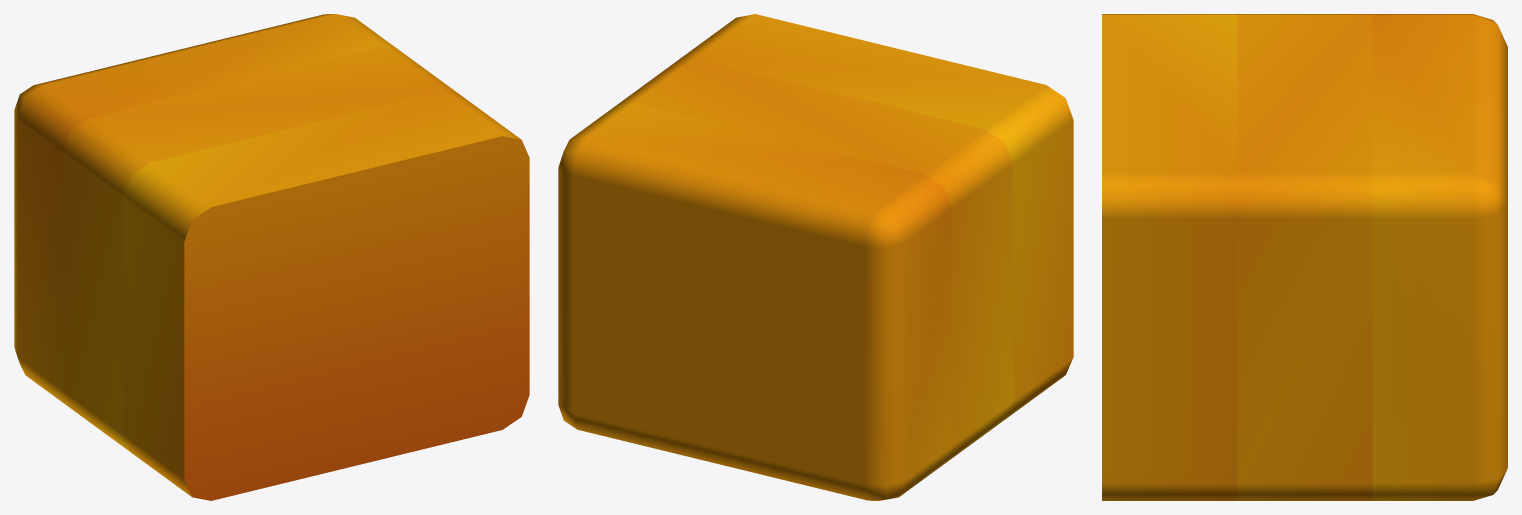
File: Cheddar_Cheese_Half.glb
3 renders of one model, left to right at view 1: azimuth 30°, elevation 25°; view 2: azimuth 150°, elevation 25°; view 3: azimuth 270°, elevation 25°, orthographic. The views are drawn at different scales.
Parts seen in each view (by area): view 1: Cheddar_Cheese_Half; view 2: Cheddar_Cheese_Half; view 3: Cheddar_Cheese_Half.
Boxes of the visible parts, box(x1,y1,x2,y2) form: Cheddar_Cheese_Half: box(14, 14, 529, 500); Cheddar_Cheese_Half: box(558, 14, 1073, 500); Cheddar_Cheese_Half: box(1102, 14, 1507, 500).
Size of the model in its own units: 0.2443 by 0.1986 by 0.2236.
1 material, 1 textured.
